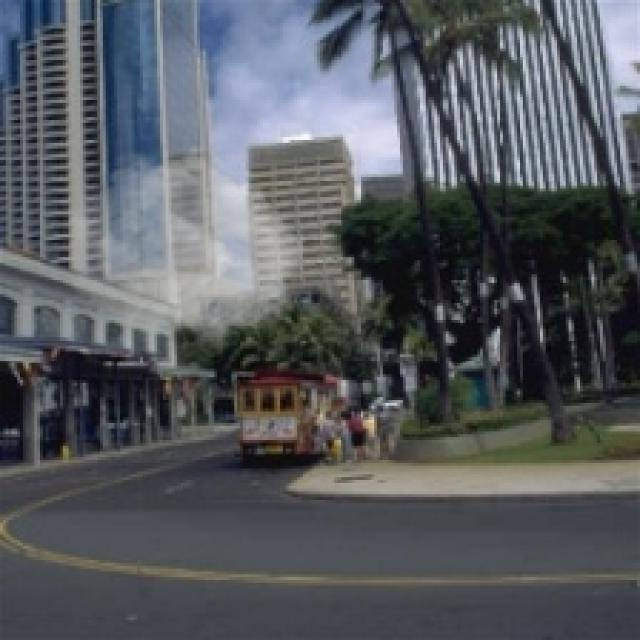smoke: (68, 146, 303, 351)
